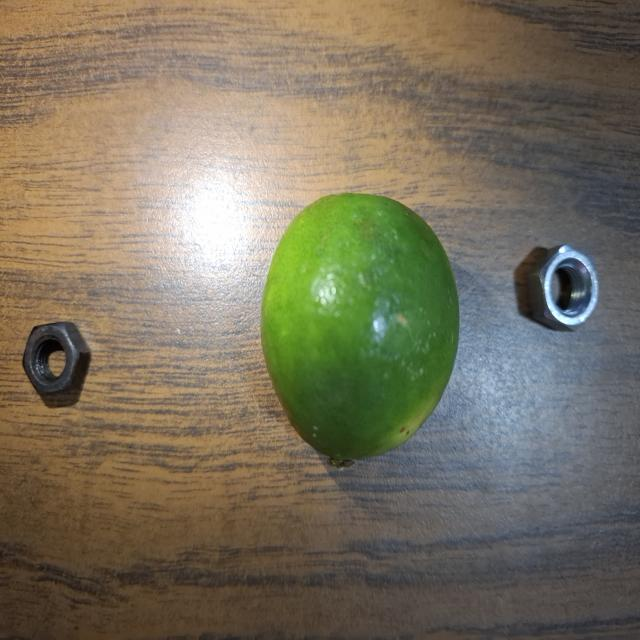limon: (258, 191, 467, 469)
milimetrico: (20, 322, 96, 397)
tuerca: (528, 243, 608, 338)
